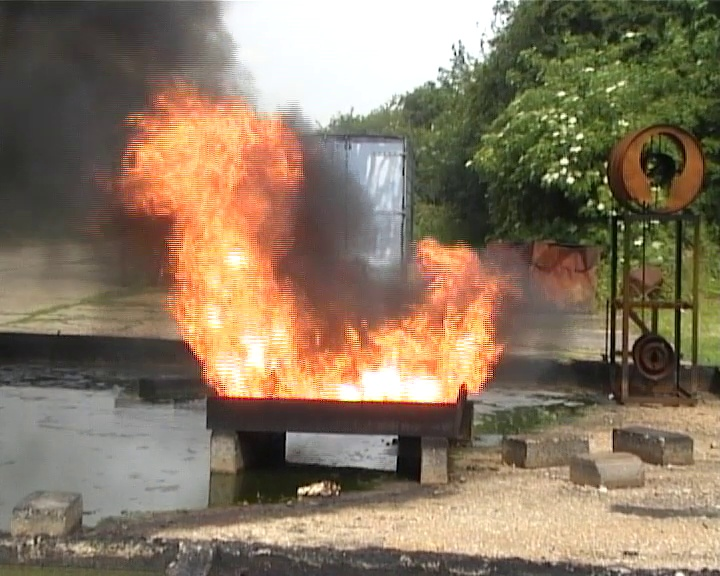fire: (126, 96, 503, 406)
